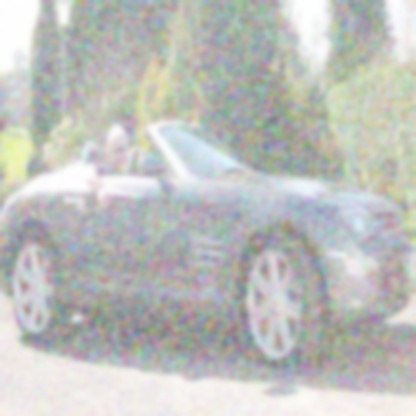Vehicle: (3, 114, 415, 376)
